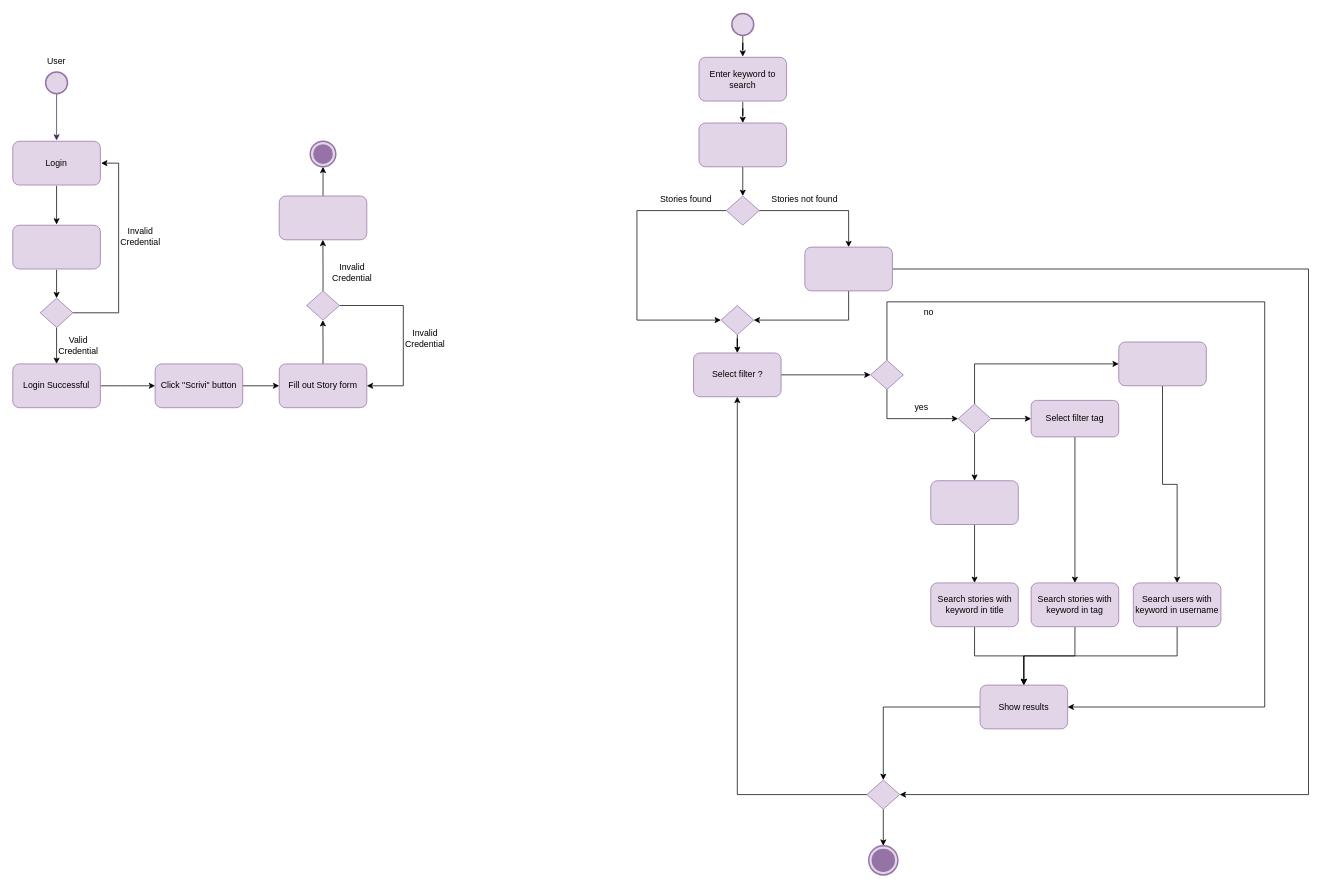
The diagram is 1327 pixels wide and 888 high, and some of its shapes have lost their labels. The shapes that lost their labels are listed below. From the top down, each one's centre as x and y in pixels, then its label:
(742,144): Search for stories that contain the keyword entered in the title
(322,217): Story Published
(56,246): Check Credentials
(848,268): Dispaly "No result"
(1162,363): Select filter user
(974,502): Select filter title
